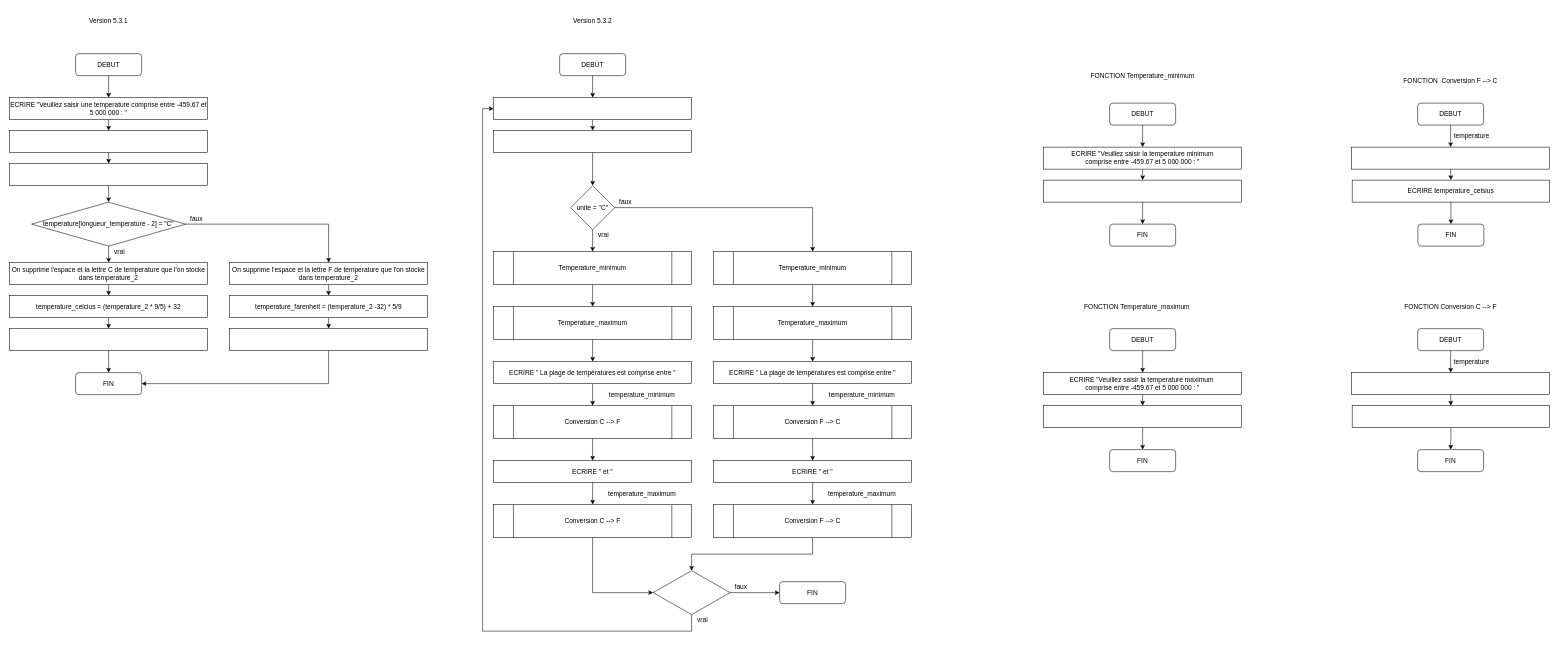
Some shapes in this 1559 by 645 pixel diagram are drawn without their labels. The shapes that lost their labels are listed below. From the top down, each one's centre as x and y in pixels, then its label:
the point at 592,108: ECRIRE "Veuillez saisir Votre unité de mesure : "
the point at 108,141: LIRE temperature
the point at 592,141: LIRE unite
the point at 1450,158: temperature_celcius = (temperature * 9/5) + 32
the point at 108,174: longueur_temperature = |temperature|
the point at 1142,191: LIRE temperature_minimum
the point at 108,339: ECRIRE "La température en degrés Celsius est : ", temperature_celsius
the point at 328,339: ECRIRE "La température en degrés Farenheit est : ", temperature_farenheit
the point at 1450,383: temperature_farenheit = (temperature -32) * 5/9
the point at 1142,416: LIRE temperature_maximum
the point at 1451,416: ECRIRE temperature_farenheit
the point at 691,592: temperature != "quit"
